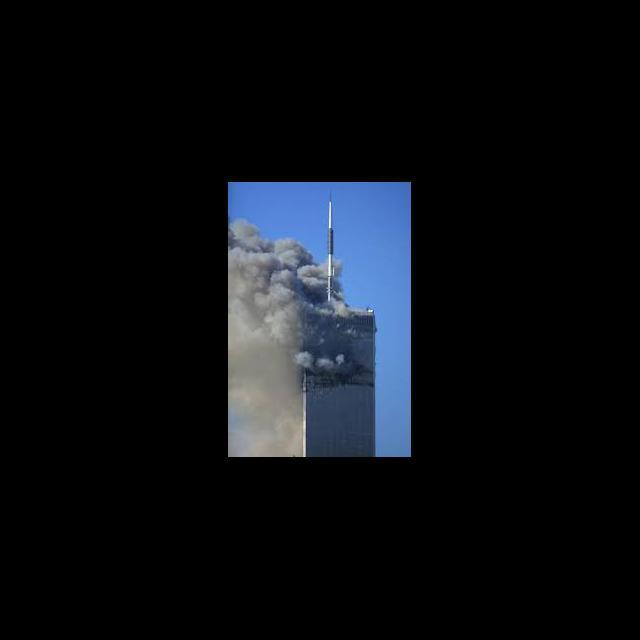Smoke: (229, 217, 301, 449)
